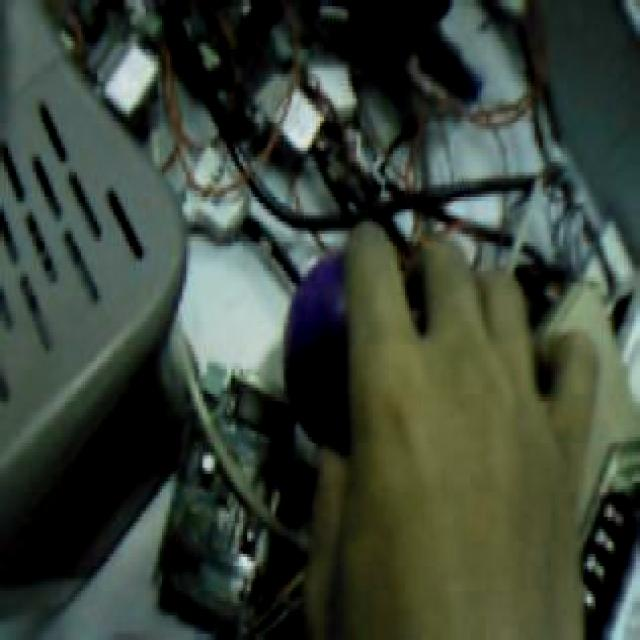BallPurple: (282, 252, 408, 452)
